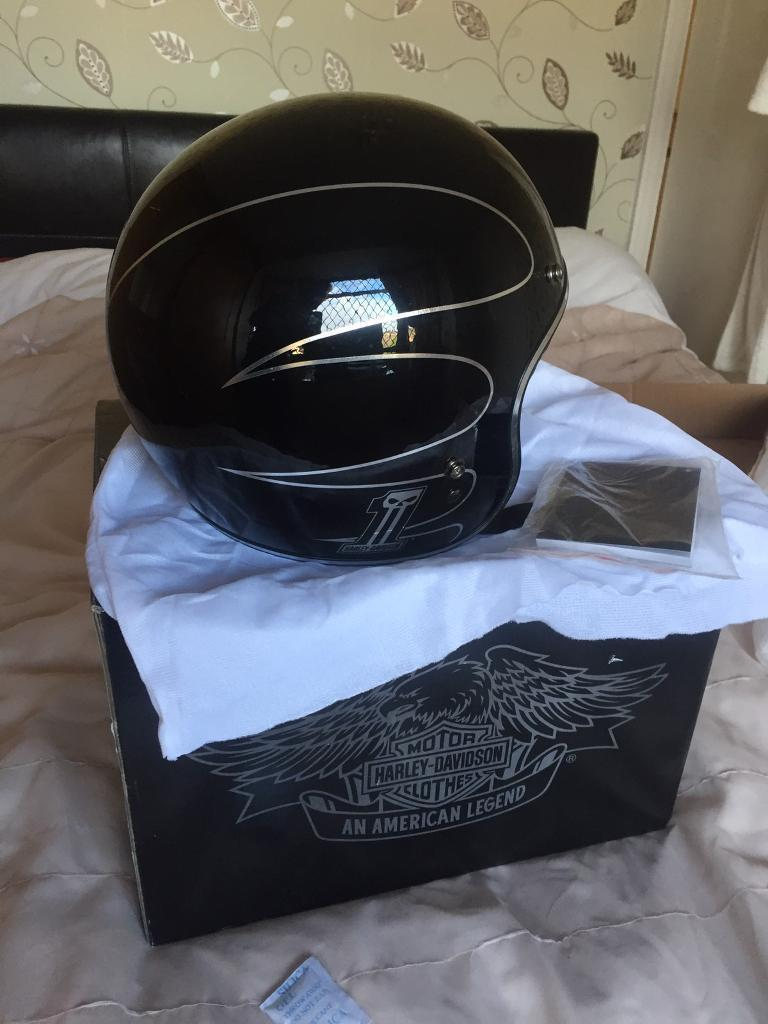with_helmet: (86, 86, 561, 562)
